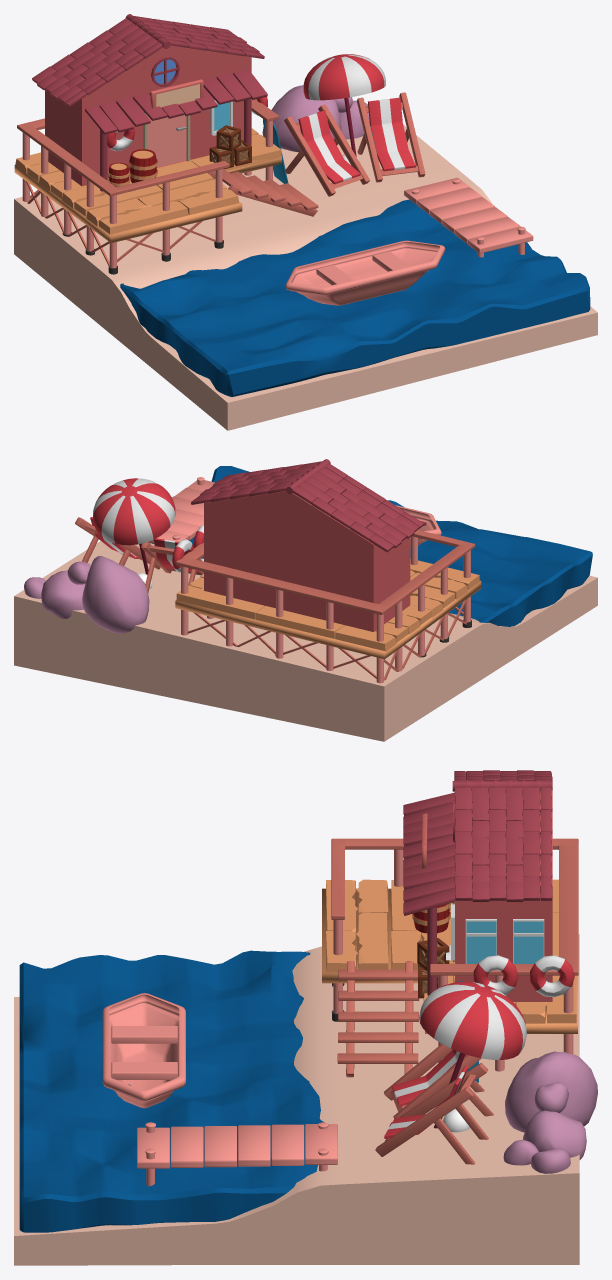
Rendered from sai-6b7045e4.glb.
The picture shows the model from 3 angles, top to bottom: view 1: azimuth 30°, elevation 25°; view 2: azimuth 150°, elevation 25°; view 3: azimuth 270°, elevation 25°; orthographic projection. The views are drawn at different scales.
Visible parts, largest first — view 1: Plane.003_9, Cube_0, Plane.007_20, Plane.015_30, Cube.008_14, Plane.002_12, Cylinder_1, Plane.014_29, Plane_2, Plane.001_40, Cylinder.004_13, Cylinder.006_17 (+13 smaller); view 2: Cube_0, Plane.007_20, Plane.003_9, Plane.015_30, Cube.008_14, Cylinder.004_13, Cylinder.006_17, Icosphere.003_7, Plane.004_15, Cylinder.005_16, Cylinder.010_37, Cylinder_1 (+6 smaller); view 3: Cube_0, Plane.003_9, Plane.015_30, Cube.008_14, Cylinder_1, Cylinder.004_13, Plane.002_12, Plane.014_29, Cylinder.006_17, Plane.007_20, Icosphere.003_7, Plane.013_28 (+17 smaller).
Boxes of the visible parts, left/top/right/bottom form: Plane.003_9: left=120, top=199, right=590, bottom=396; Cube_0: left=14, top=124, right=597, bottom=430; Plane.007_20: left=45, top=45, right=251, bottom=186; Plane.015_30: left=32, top=14, right=264, bottom=191; Cube.008_14: left=15, top=128, right=281, bottom=234; Plane.002_12: left=285, top=240, right=445, bottom=305; Cylinder_1: left=404, top=177, right=533, bottom=257; Plane.014_29: left=85, top=69, right=267, bottom=134; Plane_2: left=356, top=92, right=425, bottom=182; Plane.001_40: left=284, top=104, right=369, bottom=196; Cylinder.004_13: left=303, top=54, right=385, bottom=156; Cylinder.006_17: left=17, top=99, right=278, bottom=196; Cube_0: left=14, top=541, right=597, bottom=741; Plane.007_20: left=204, top=491, right=410, bottom=631; Plane.003_9: left=149, top=466, right=592, bottom=626; Plane.015_30: left=191, top=459, right=423, bottom=552; Cube.008_14: left=176, top=559, right=479, bottom=651; Cylinder.004_13: left=93, top=478, right=175, bottom=574; Cylinder.006_17: left=176, top=530, right=475, bottom=614; Icosphere.003_7: left=82, top=556, right=149, bottom=633; Plane.004_15: left=175, top=580, right=481, bottom=659; Cylinder.005_16: left=181, top=536, right=470, bottom=641; Cylinder.010_37: left=181, top=596, right=471, bottom=683; Cylinder_1: left=148, top=477, right=214, bottom=543; Cube_0: left=14, top=934, right=579, bottom=1265; Plane.003_9: left=19, top=950, right=323, bottom=1232; Plane.015_30: left=427, top=770, right=552, bottom=995; Cube.008_14: left=326, top=879, right=576, bottom=1023; Cylinder_1: left=137, top=1122, right=337, bottom=1186; Cylinder.004_13: left=419, top=981, right=526, bottom=1128; Plane.002_12: left=102, top=993, right=185, bottom=1108; Plane.014_29: left=403, top=792, right=454, bottom=915; Cylinder.006_17: left=331, top=838, right=578, bottom=975; Plane.007_20: left=452, top=776, right=552, bottom=1001; Icosphere.003_7: left=505, top=1051, right=597, bottom=1132; Plane.013_28: left=337, top=969, right=419, bottom=1063.
Bounding box in the file's own units: 14.03 × 8.79 × 14.46.
